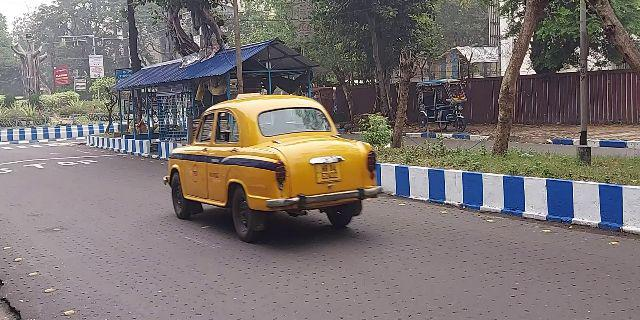Car: (162, 95, 381, 242)
Rickshaw: (415, 75, 472, 132)
